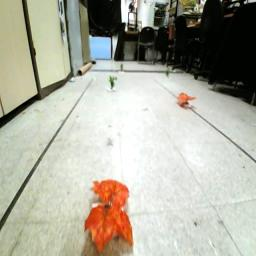herb: (110, 76, 120, 89)
wild: (86, 180, 138, 251), (178, 93, 198, 108)
